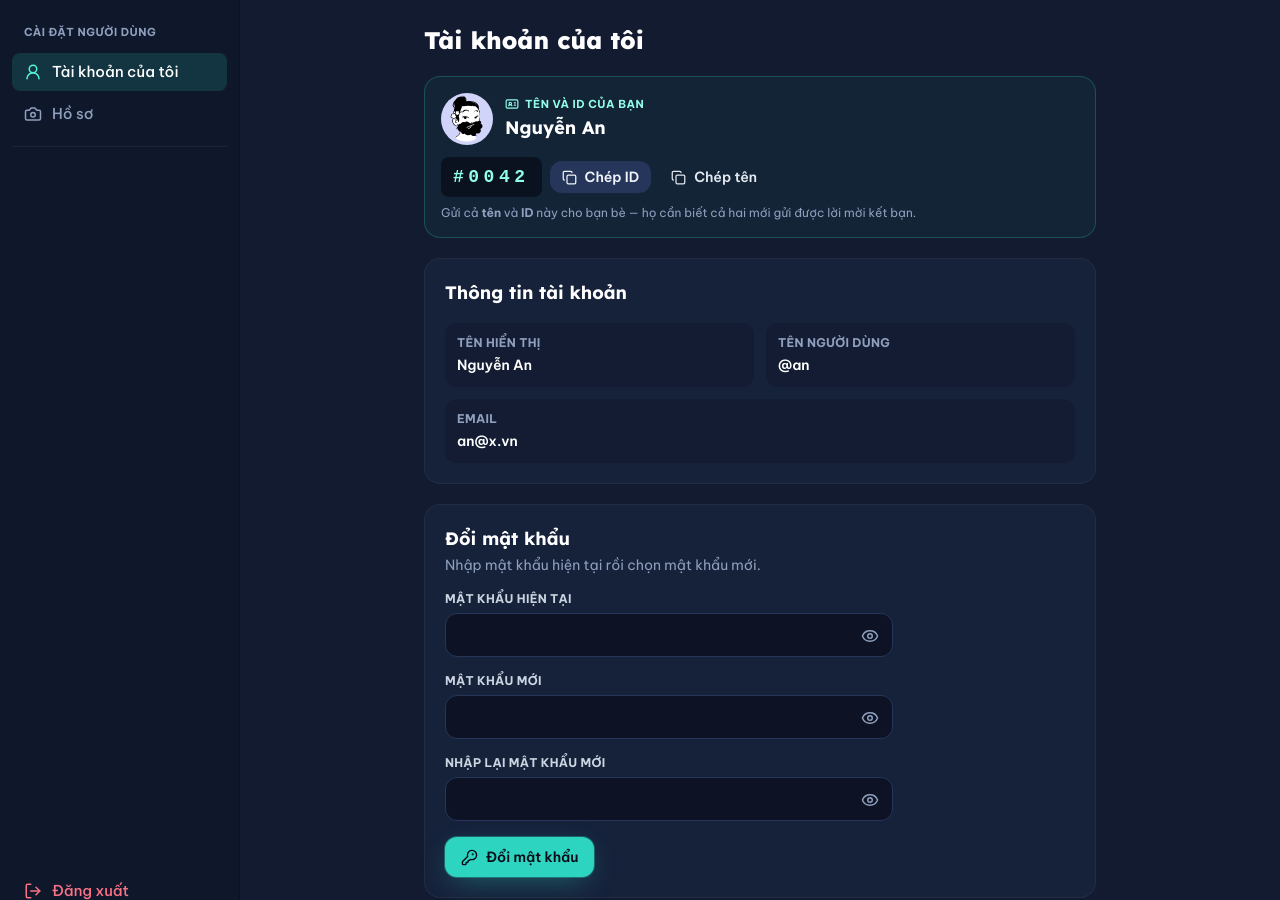
Scenario: Cài đặt → Hồ sơ › nút Lưu bị khóa cho đến khi có thay đổi; lưu gọi đúng dữ liệu
Later steps or results of the test are not shown.
Click the button "Hồ sơ" at (120, 114), box x1=12 y1=95 x2=227 y2=134
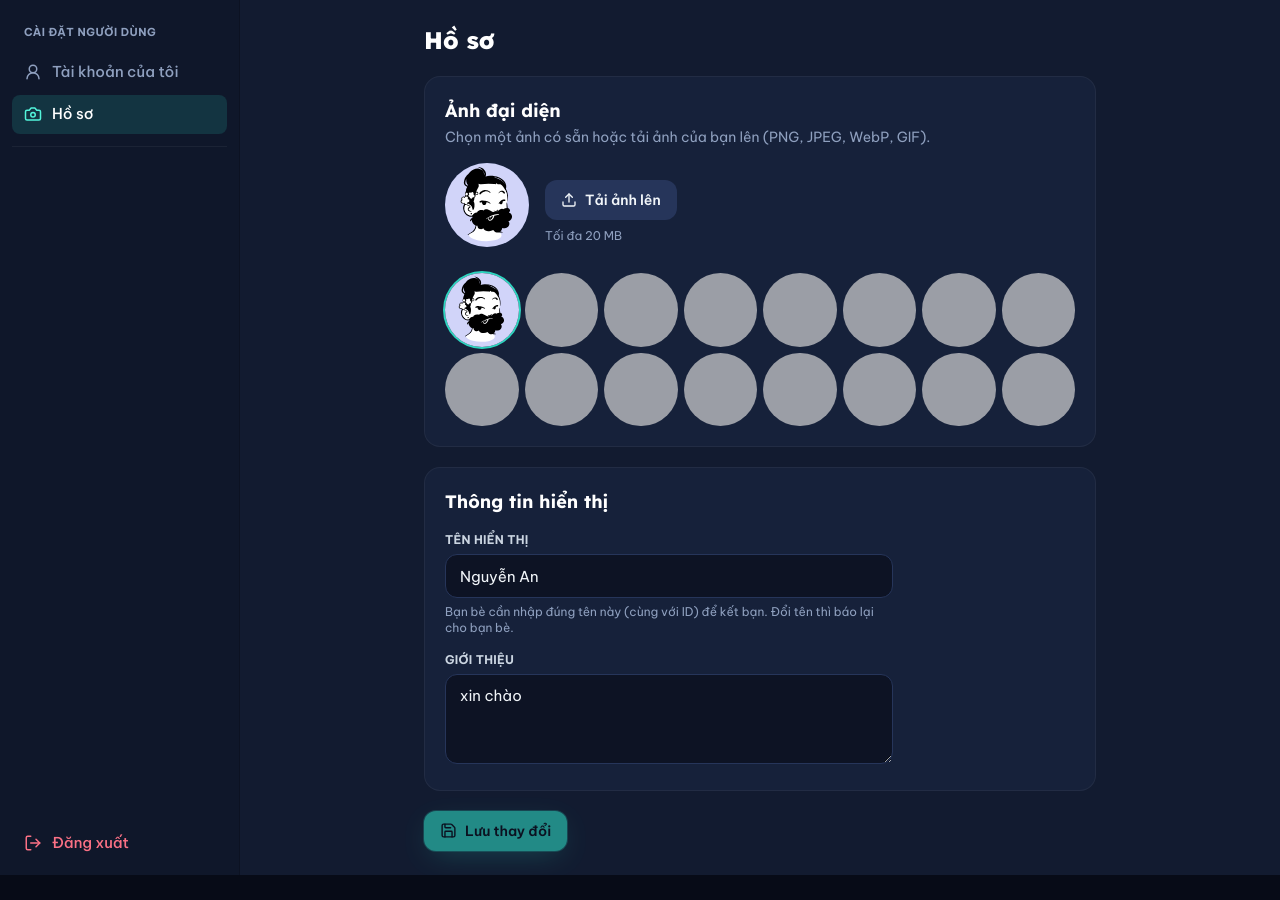
Expected: the button "Lưu thay đổi" is disabled, x1=424 y1=810 x2=567 y2=850
Replace the text in the field labelled "Tên hiển thị" with "An Mới" at (669, 576), box x1=445 y1=554 x2=893 y2=598
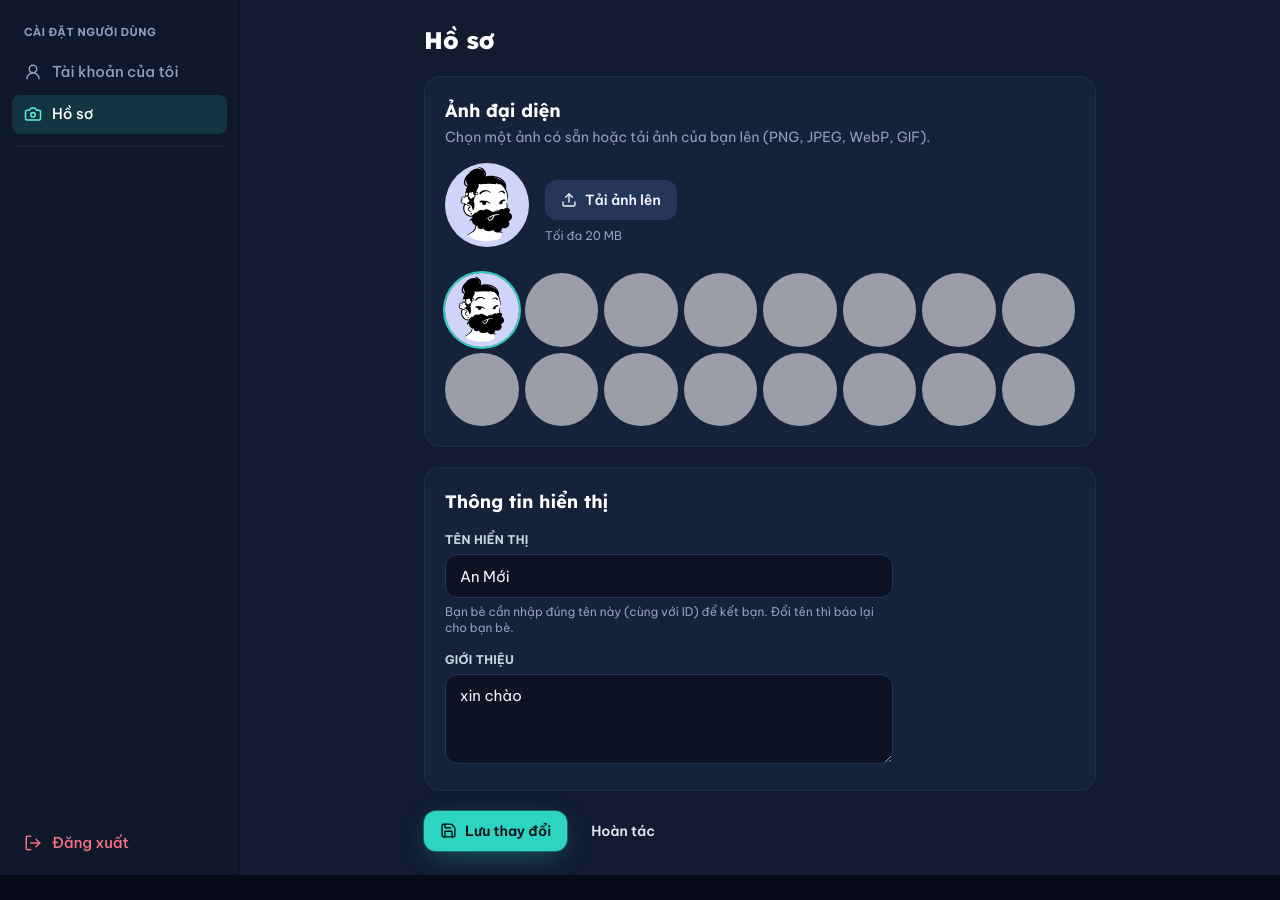
Expected: the button "Lưu thay đổi" is enabled, x1=424 y1=810 x2=567 y2=850
